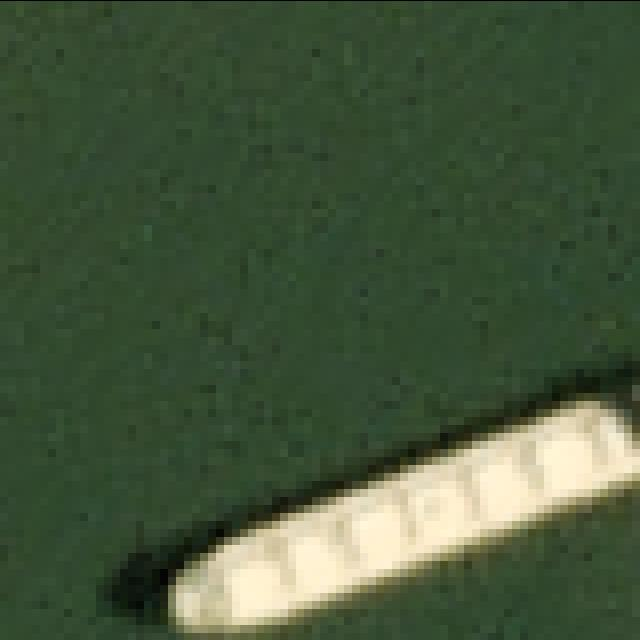ship: (154, 371, 640, 639)
